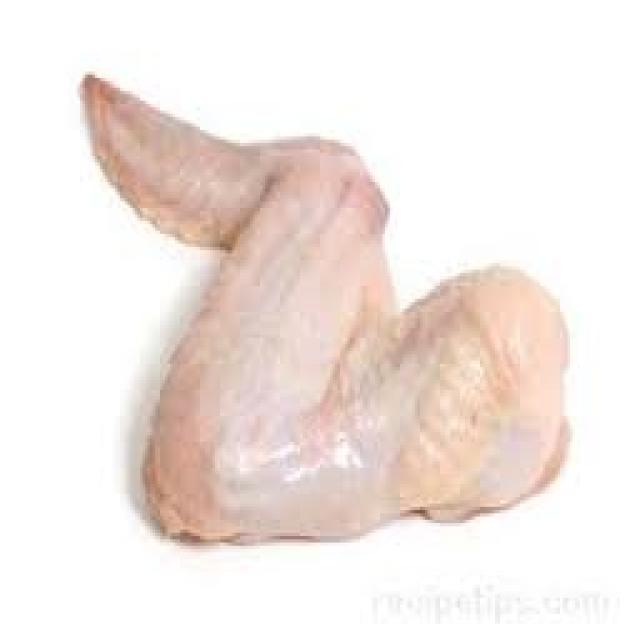chicken: (86, 78, 570, 541)
